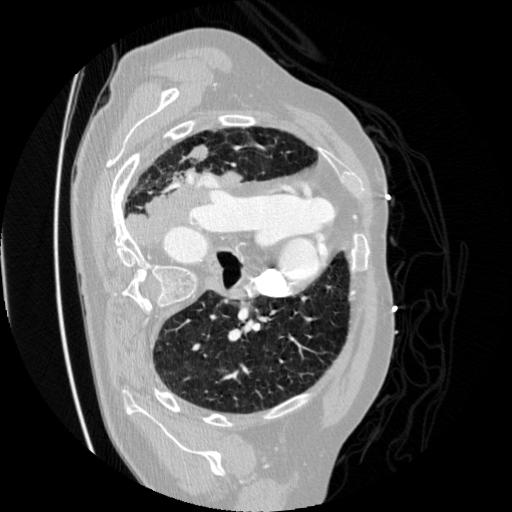nodule: (187, 143, 213, 169)
